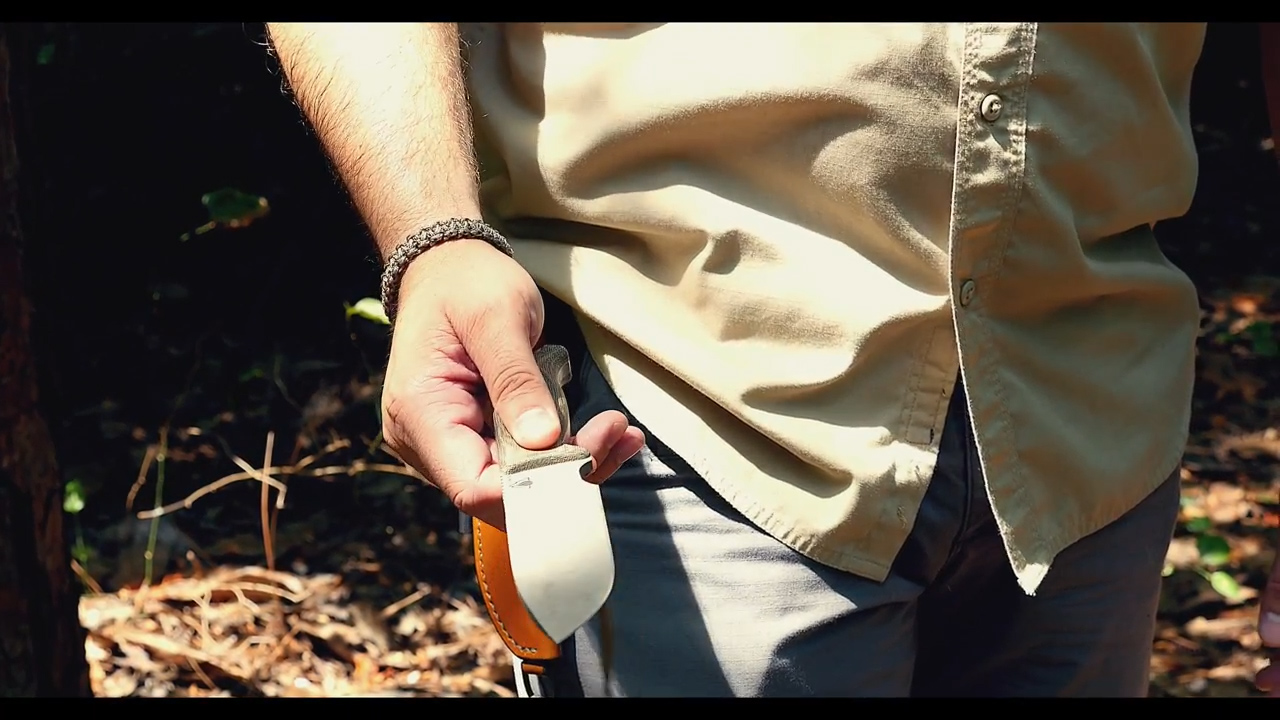knife: (386, 329, 652, 658)
